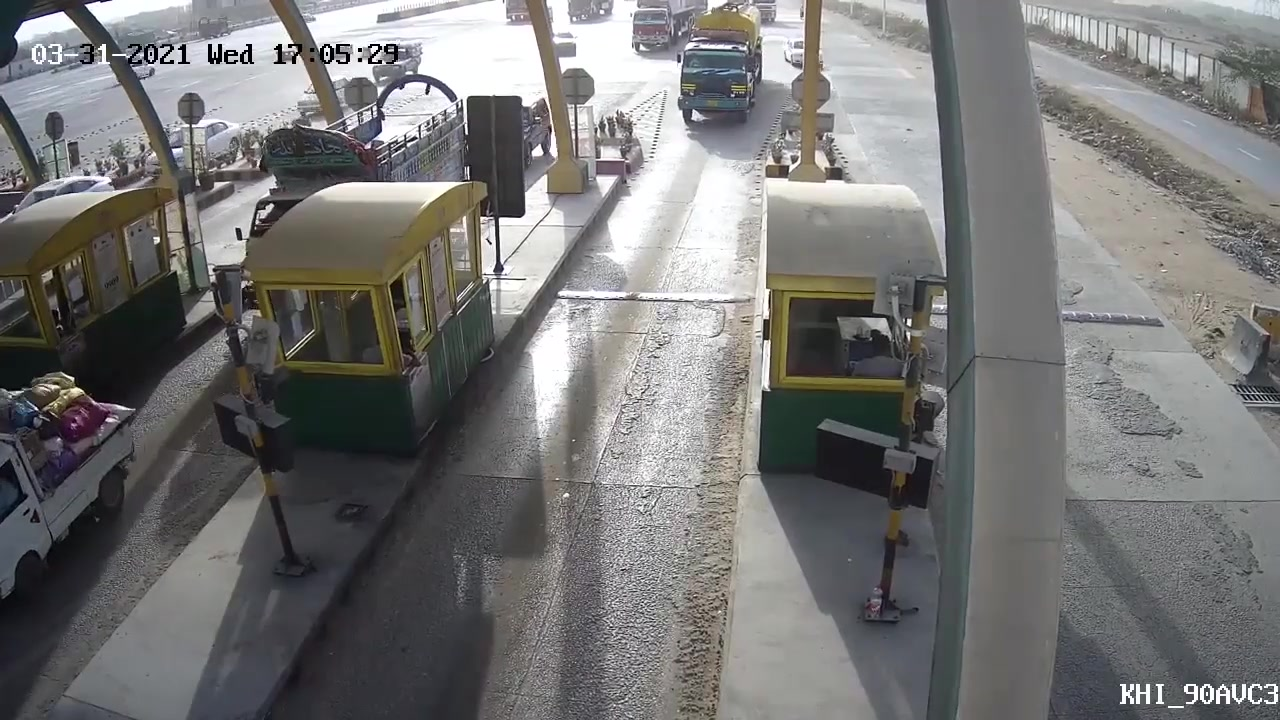F5: (672, 7, 764, 142)
